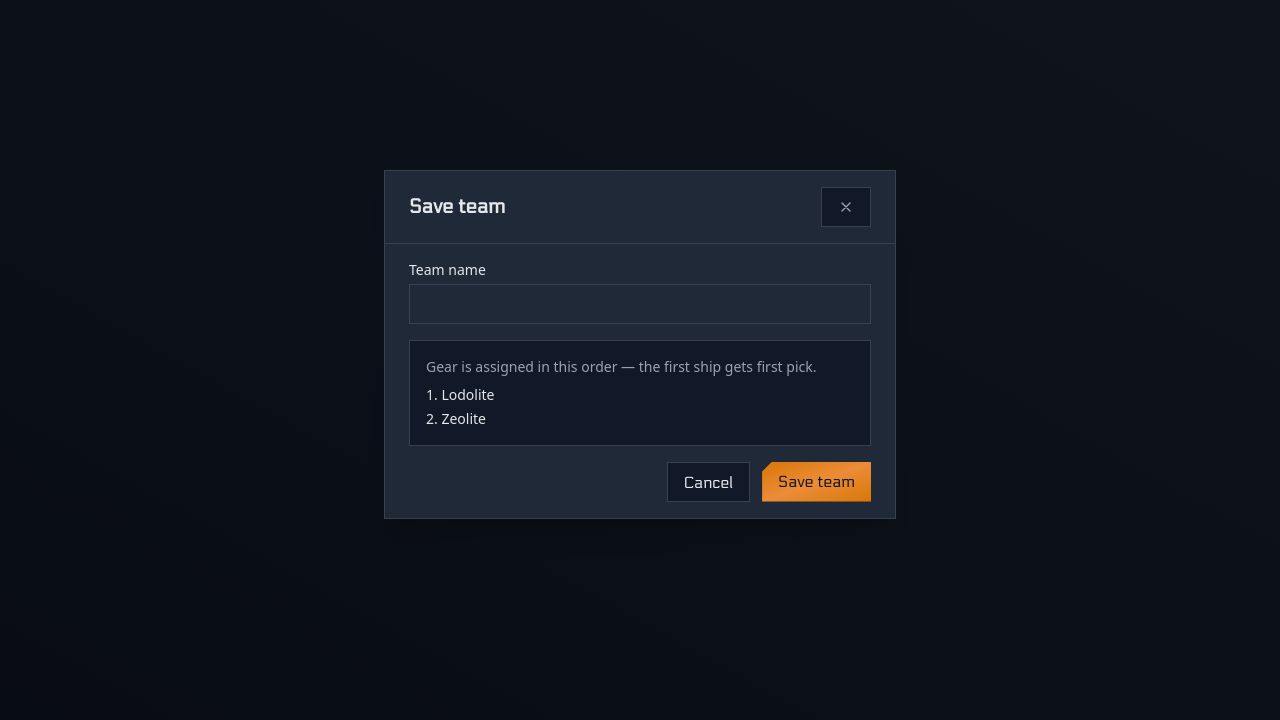
SaveAutogearTeamModal › rejects an empty name without saving
The image size is (1280, 720).
What coordinates should you click on to do the following:
click the button "Save team"
I would click on:
 (817, 482)
Its box is 762,462 -> 871,502.
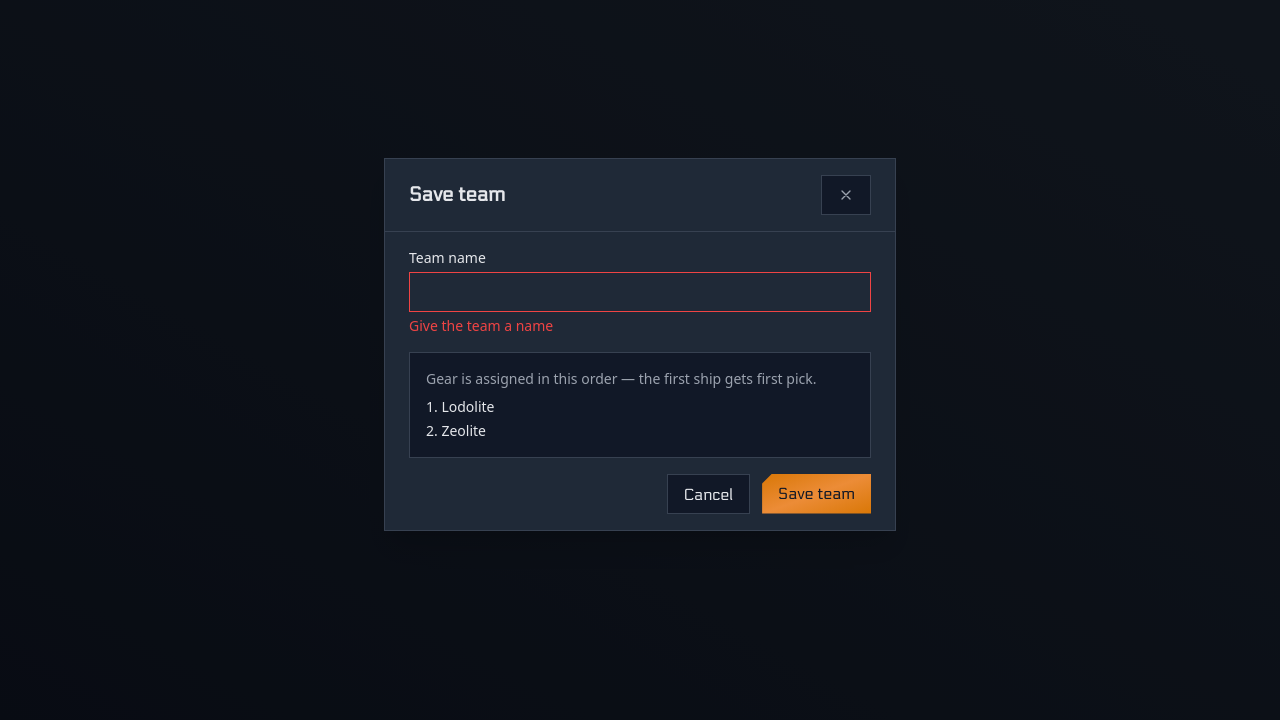
Expected: the text "Give the team a name" is shown, 409,316 -> 553,334
